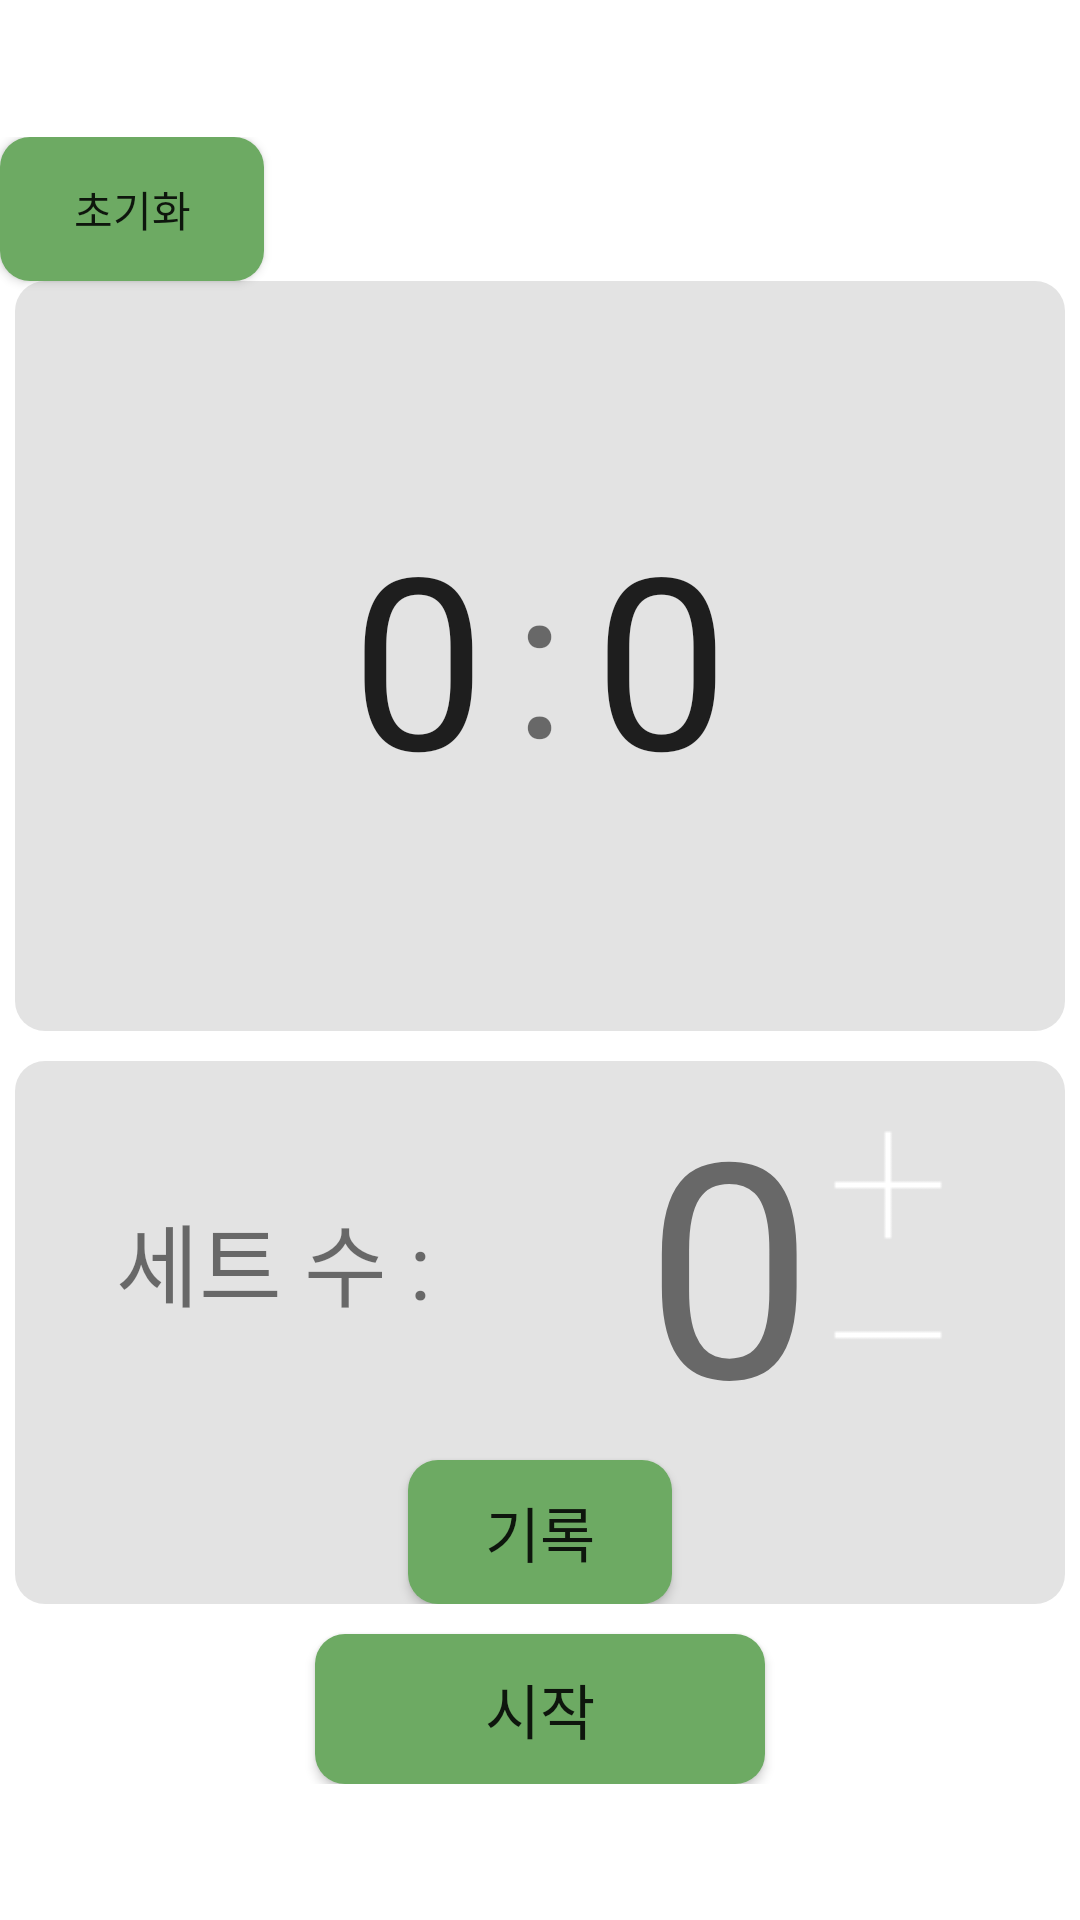

Named icons in this screenshot (1080w x 1920h) and their bounding boxes, (x1, y1, x2, y2):
plus: (836, 1133, 940, 1237)
